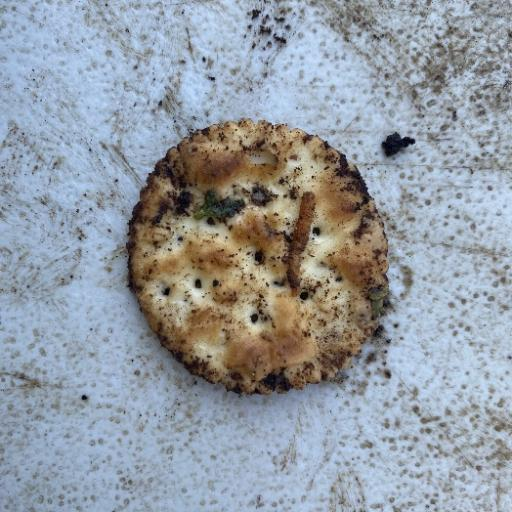Waste: (124, 116, 391, 397)
